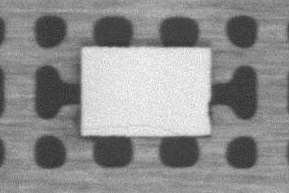DIE_CRACK: (82, 124, 180, 133)
